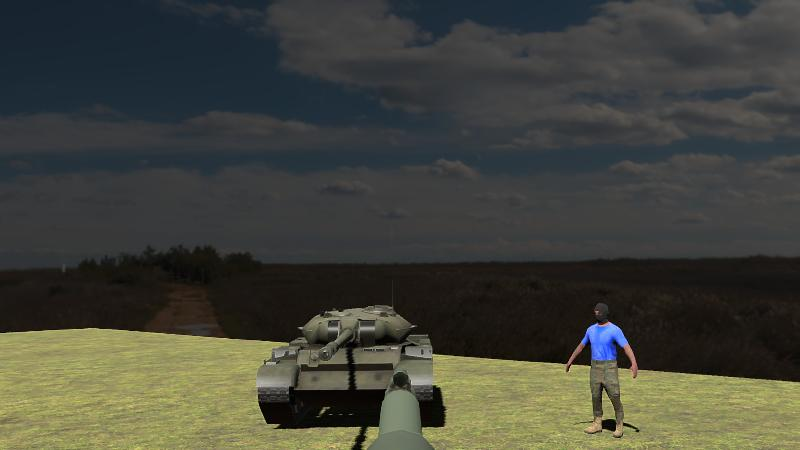Human: (566, 300, 638, 438)
Tank: (256, 302, 435, 428)
